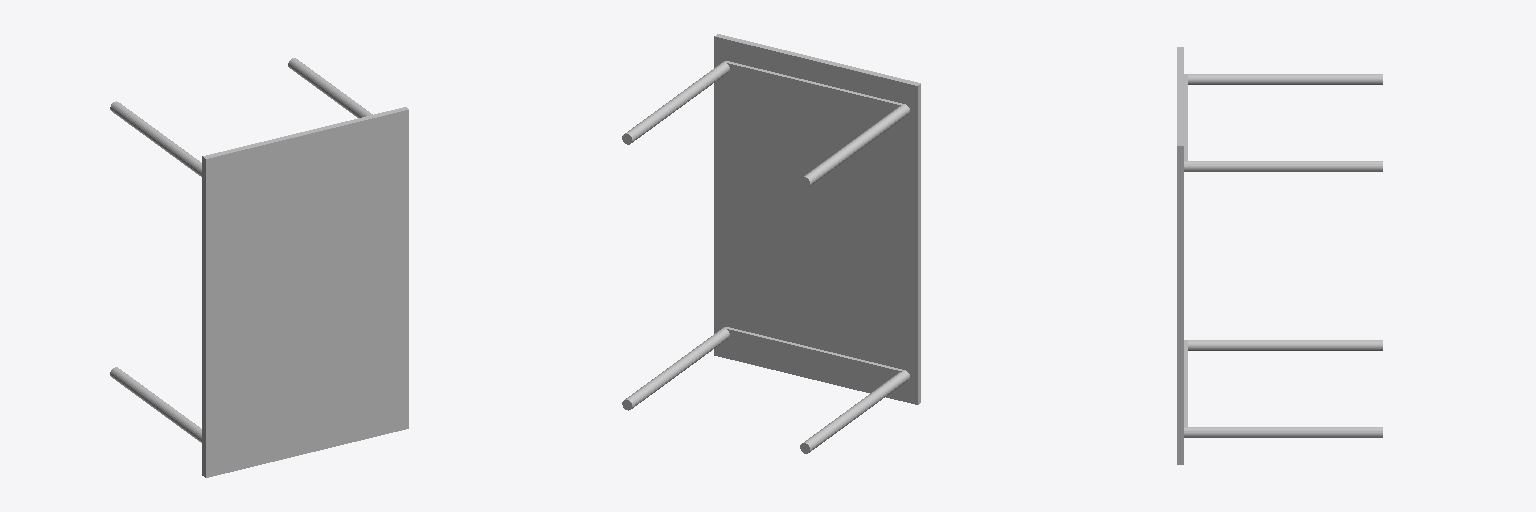
Rendered from clf_table_short.obj.
3 renders of one model, left to right at view 1: azimuth 30°, elevation 25°; view 2: azimuth 150°, elevation 25°; view 3: azimuth 270°, elevation 25°, orthographic.
Visible parts, largest first — view 1: Plane, Cylinder.001, Cylinder.004, Cylinder.002; view 2: Plane, Cube.002_Cube.003, Cube.003_Cube.004, Cylinder.004, Cylinder.001, Cylinder.002, Cylinder; view 3: Plane, Cylinder, Cylinder.002, Cylinder.001, Cylinder.004.
Part boxes in pixels (left/top/right/bottom): Plane: left=202, top=107, right=408, bottom=477; Cylinder.001: left=110, top=367, right=201, bottom=442; Cylinder.004: left=110, top=101, right=201, bottom=176; Cylinder.002: left=288, top=58, right=372, bottom=117; Plane: left=714, top=34, right=920, bottom=404; Cube.002_Cube.003: left=725, top=327, right=904, bottom=378; Cube.003_Cube.004: left=725, top=61, right=904, bottom=112; Cylinder.004: left=800, top=104, right=909, bottom=187; Cylinder.001: left=800, top=370, right=909, bottom=453; Cylinder.002: left=622, top=61, right=729, bottom=144; Cylinder: left=622, top=327, right=729, bottom=410; Plane: left=1177, top=47, right=1183, bottom=464; Cylinder: left=1184, top=427, right=1382, bottom=437; Cylinder.002: left=1184, top=161, right=1382, bottom=171; Cylinder.001: left=1188, top=340, right=1382, bottom=350; Cylinder.004: left=1188, top=74, right=1382, bottom=84.
Size of the model in its own units: 0.8 by 1.2 by 0.705.